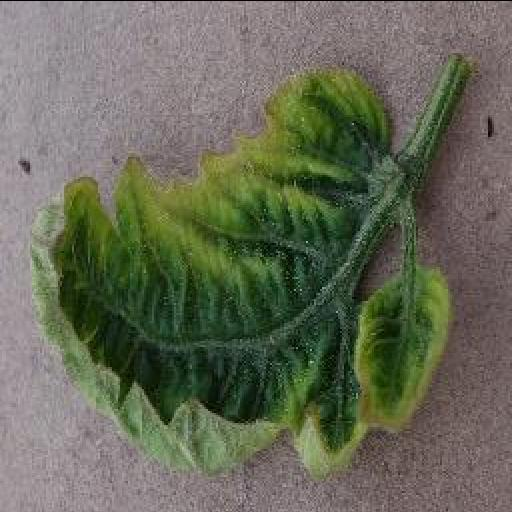disease_tomato: (26, 63, 448, 469)
